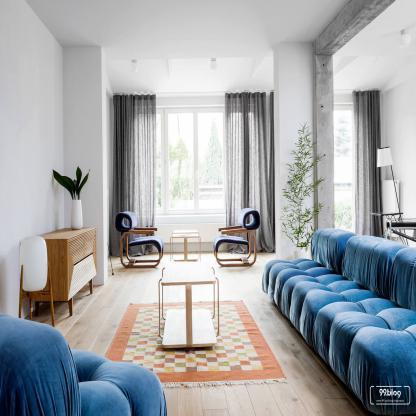kursi: (115, 207, 164, 271), (213, 206, 262, 269)
lampu: (374, 144, 396, 176)
sova: (267, 226, 416, 416)
tanaman: (58, 170, 89, 230)
